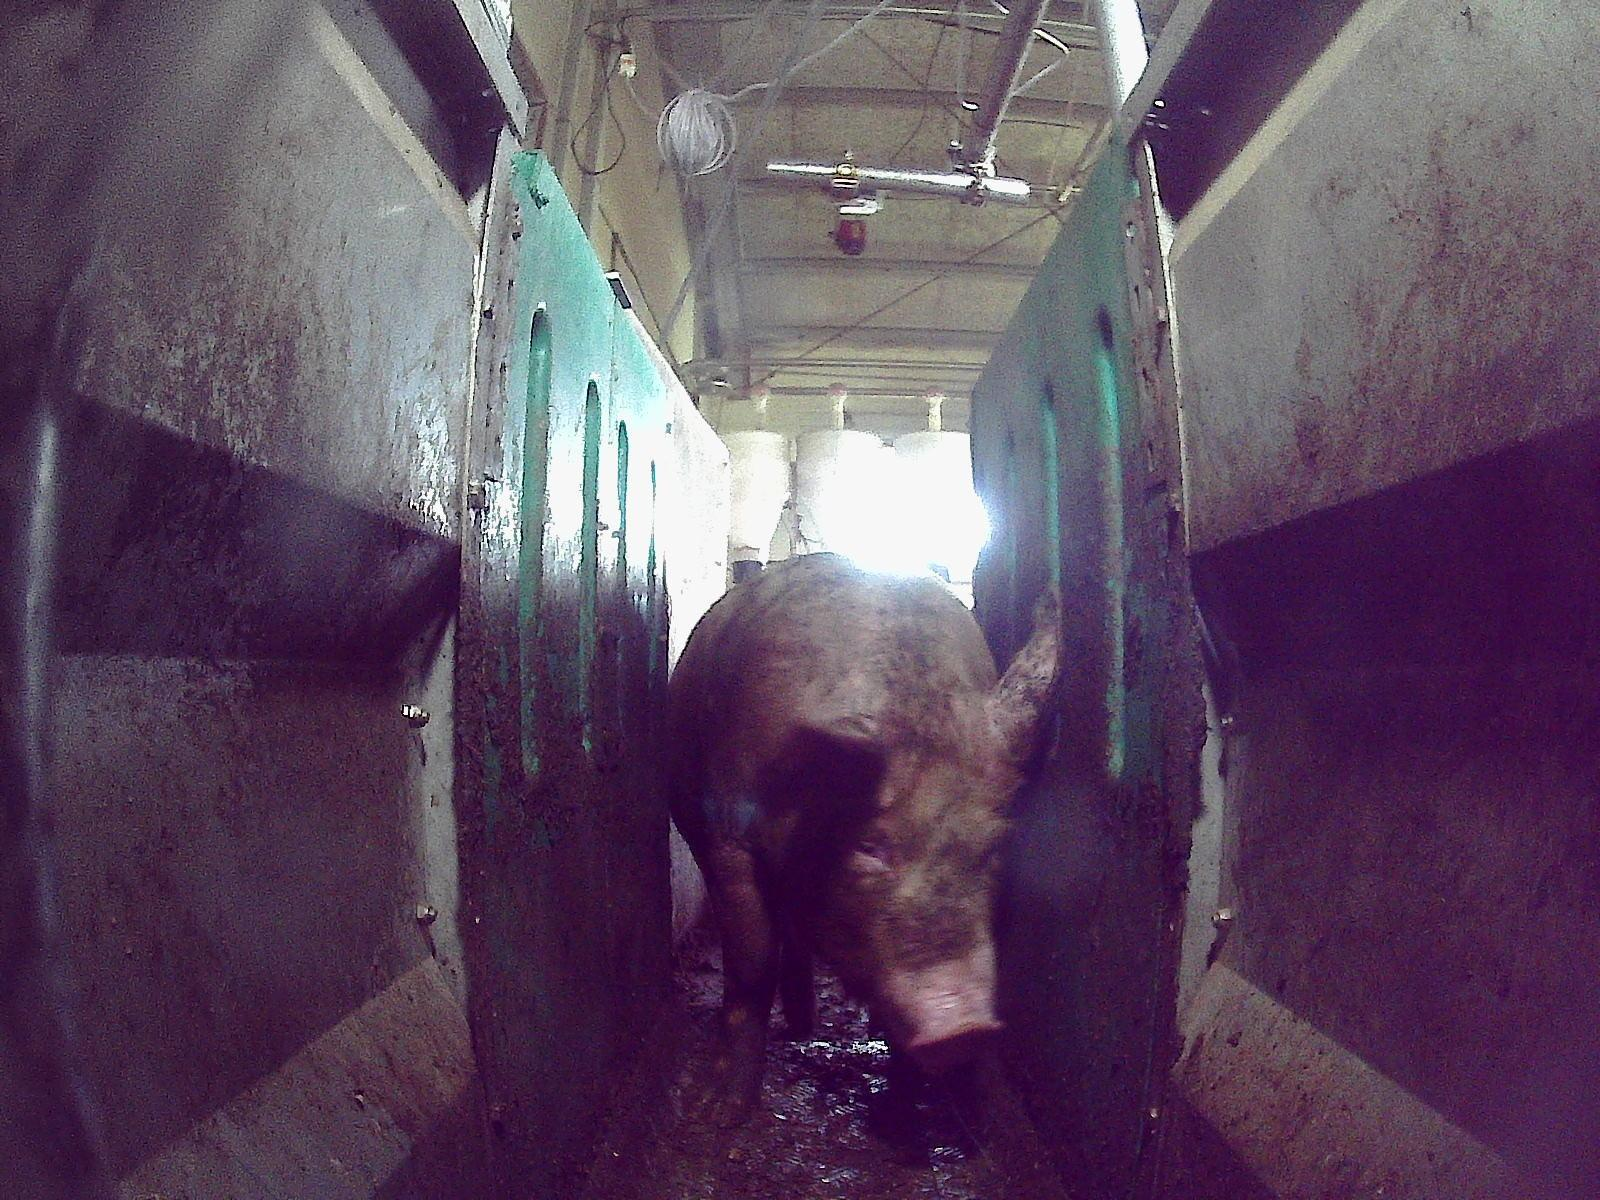Face: (790, 724, 1004, 1070)
